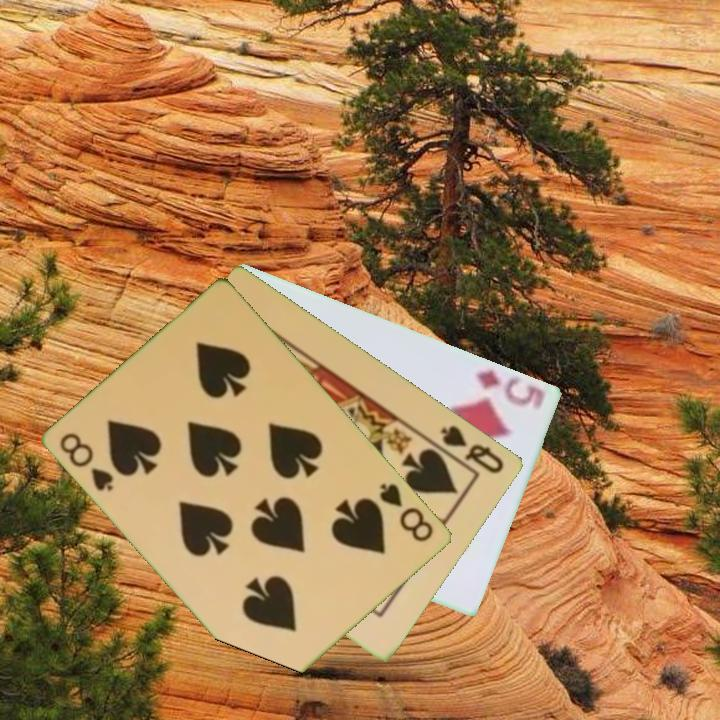5d: (472, 365, 549, 413)
8s: (376, 479, 437, 545), (56, 429, 117, 494)
Qs: (437, 421, 508, 477)
